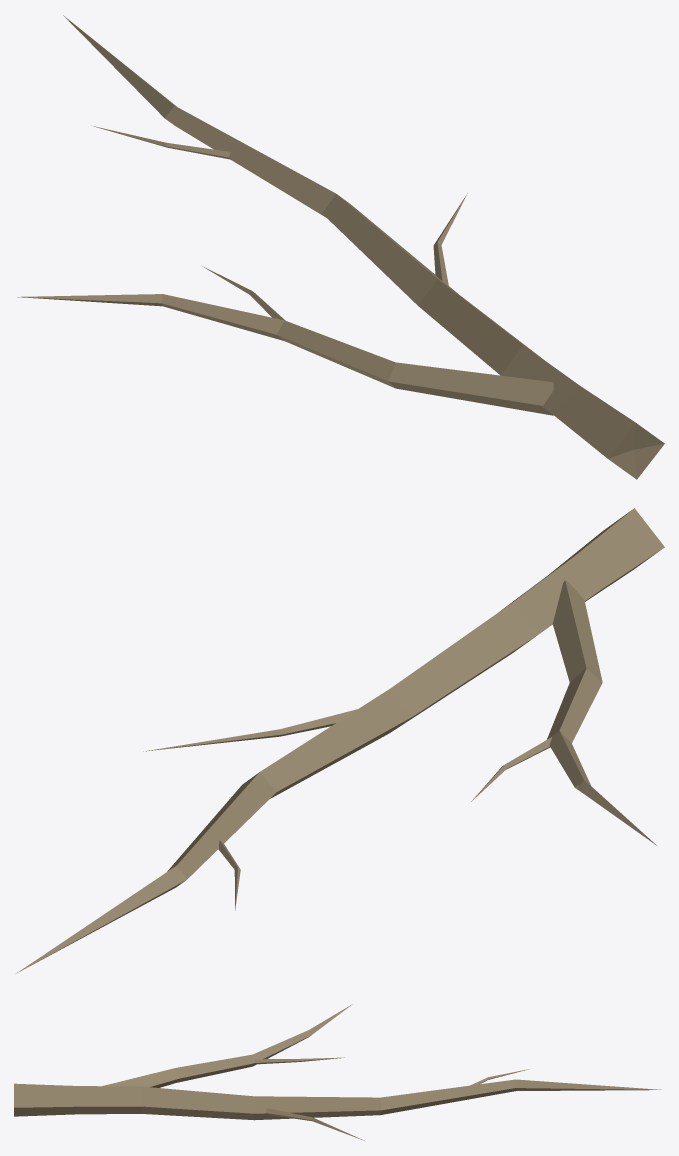
The model's file is dump.fbx.
3 renders of one model, top to bottom at view 1: azimuth 30°, elevation 25°; view 2: azimuth 150°, elevation 25°; view 3: azimuth 270°, elevation 25°, orthographic. The views are drawn at different scales.
Parts seen in each view (by area): view 1: EnvBranch_3; view 2: EnvBranch_3; view 3: EnvBranch_3.
Boxes of the visible parts, x1=… form: EnvBranch_3: x1=17, y1=15, x2=664, y2=479; EnvBranch_3: x1=16, y1=508, x2=664, y2=973; EnvBranch_3: x1=14, y1=1004, x2=661, y2=1140.
Size of the model in its own units: 199 by 23.46 by 424.
